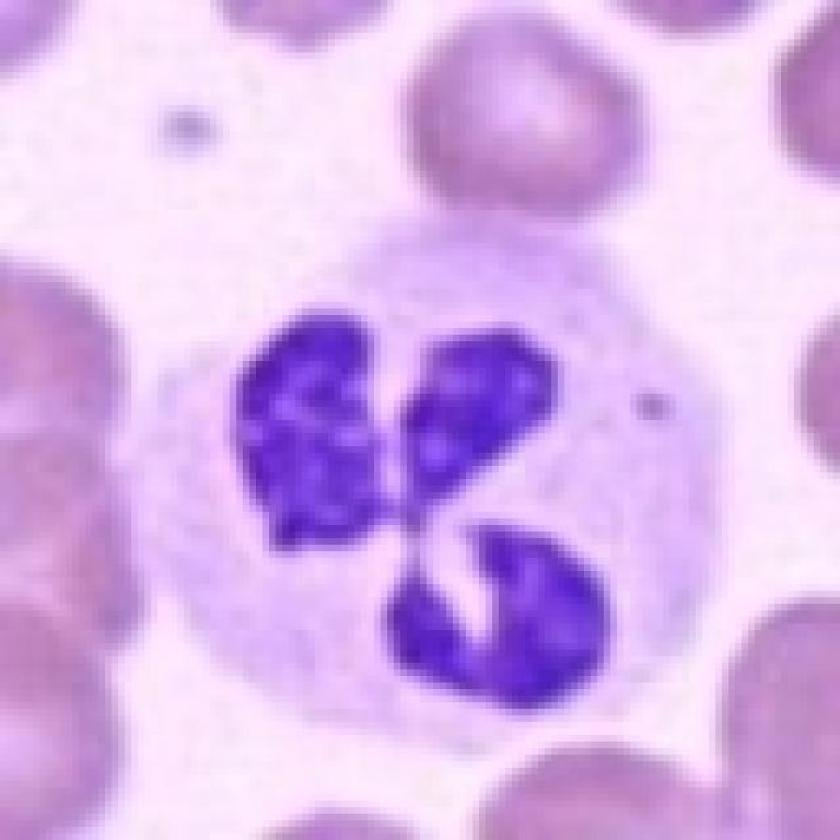neutrophil: (126, 177, 719, 796)
